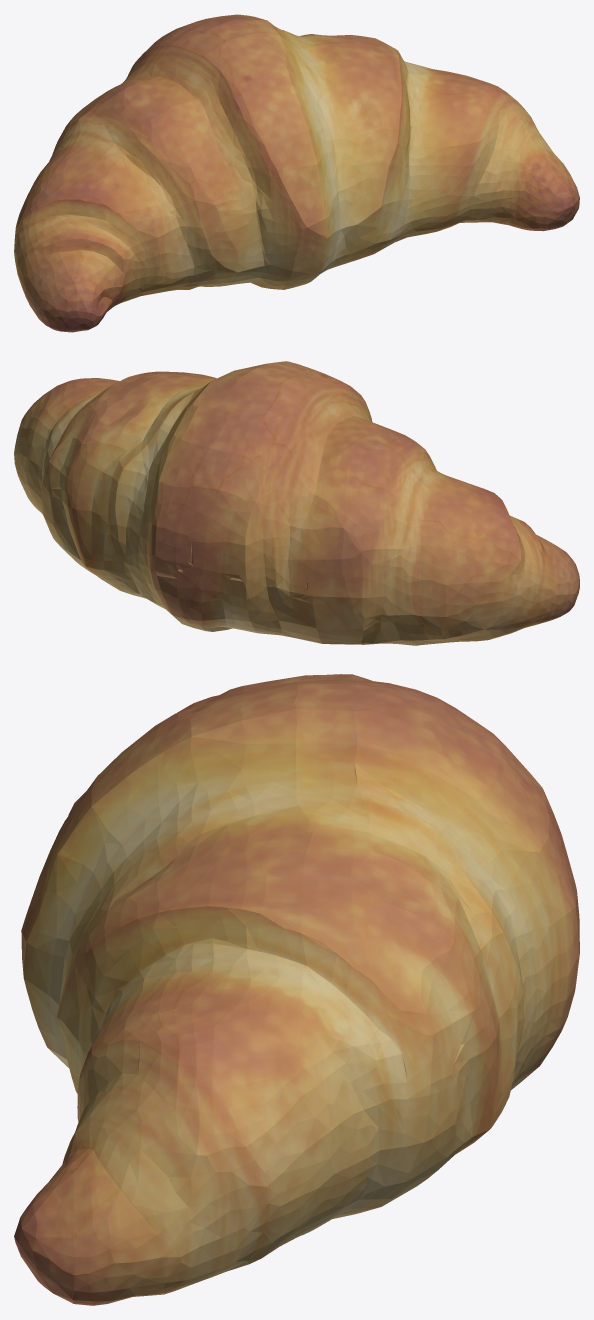
The model's file is croissant.glb.
The picture shows the model from 3 angles, top to bottom: view 1: azimuth 30°, elevation 25°; view 2: azimuth 150°, elevation 25°; view 3: azimuth 270°, elevation 25°; orthographic projection. The views are drawn at different scales.
Parts seen in each view (by area): view 1: world; view 2: world; view 3: world.
Boxes of the visible parts, left/top/right/bottom form: world: left=14, top=14, right=579, bottom=332; world: left=14, top=361, right=579, bottom=645; world: left=14, top=674, right=579, bottom=1305.
Bounding box in the file's own units: 0.9998 × 0.3981 × 0.5142.
1 material, 1 textured.
